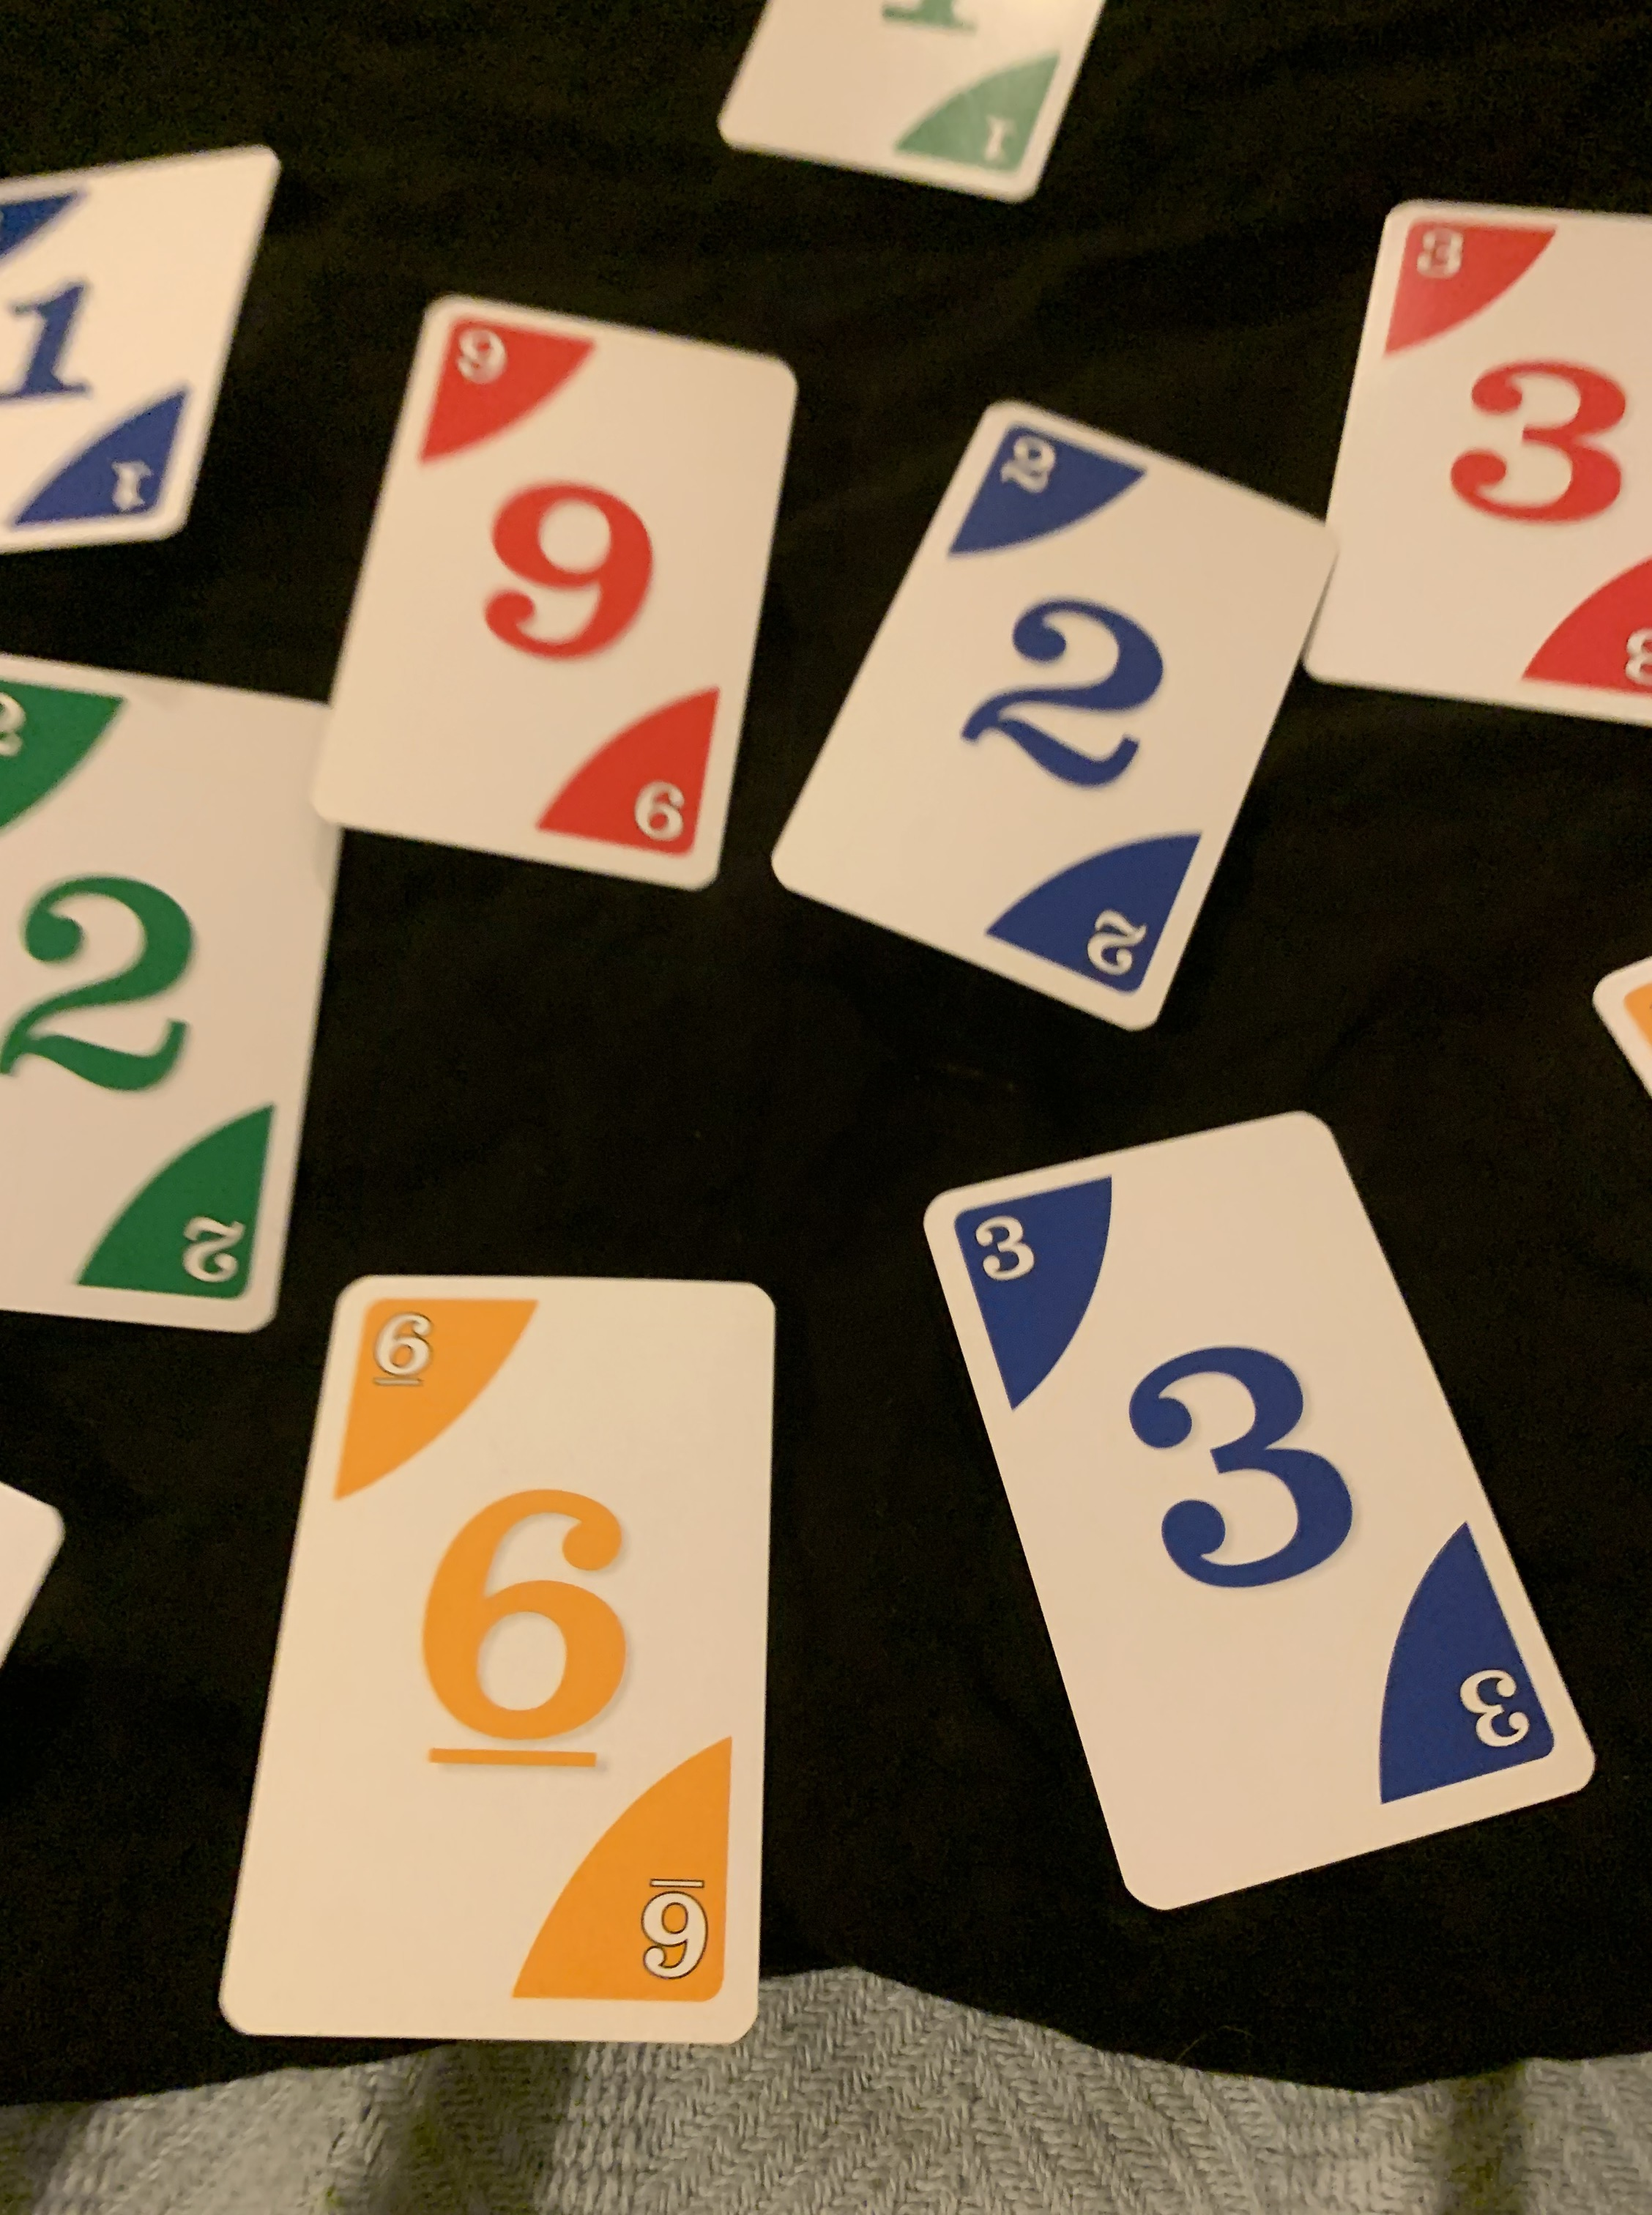nine: (307, 295, 791, 894)
six: (212, 1265, 776, 2055)
three: (915, 1104, 1598, 1923), (1296, 193, 1652, 741)
two: (767, 399, 1340, 1036), (0, 691, 363, 1333)
